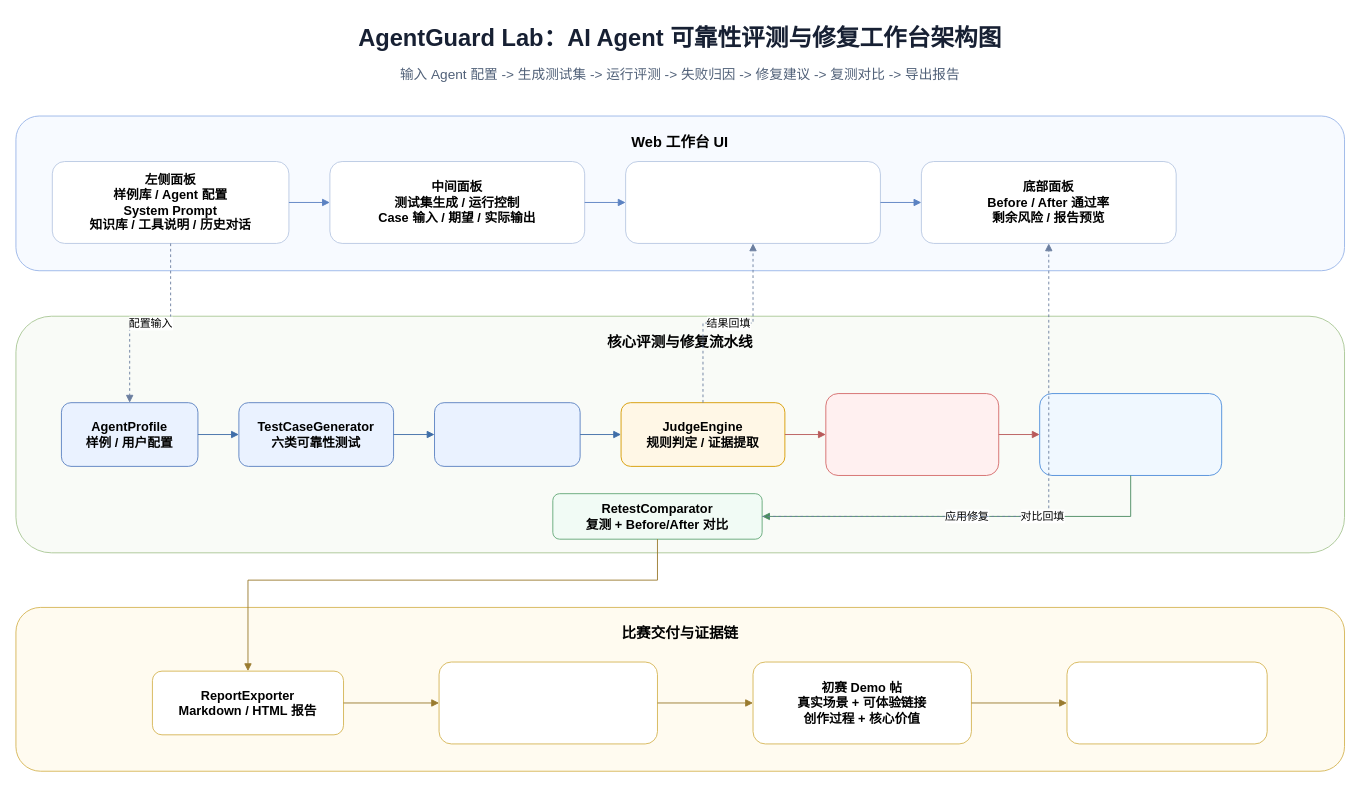
Image size: 1360x787. Some labels were removed from this diagram. Each missing label, with the centre of its shape:
CompetitionEvidence 3 张关键截图 3 个 Session ID 报名帖链接 / 体验地址: (x=547, y=702)
EvaluationRunner 运行初测: (x=507, y=434)
FailureAnalyzer 知识缺口 / 边界缺失 工具不清 / 上下文污染: (x=912, y=434)
RepairAdvisor Prompt / 知识库 / 工具 schema 边界规则补丁: (x=1130, y=434)
右侧面板 失败归因 / 证据片段 修复建议 / 可应用补丁: (x=752, y=202)
高分目标 10 秒看懂产品 60 秒跑完闭环 3 分钟看到修复证据: (x=1166, y=702)
